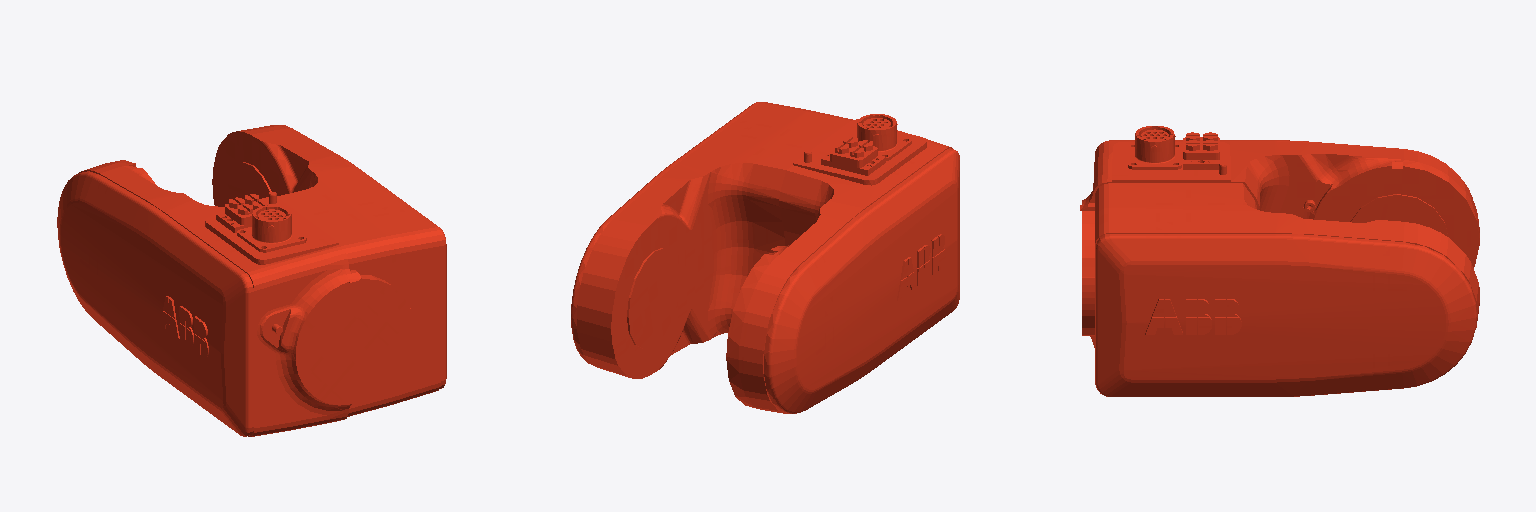
3 renders of one model, left to right at view 1: azimuth 30°, elevation 25°; view 2: azimuth 150°, elevation 25°; view 3: azimuth 270°, elevation 25°, orthographic.
Parts seen in each view (by area): view 1: Link4; view 2: Link4; view 3: Link4.
Boxes of the visible parts, x1,y1,x2,y2 form: Link4: [57, 125, 446, 436]; Link4: [571, 102, 959, 413]; Link4: [1080, 126, 1479, 396].
Bounding box in the file's own units: 38.08 × 31.77 × 58.04.
Materials: 1 (1 with a texture image).